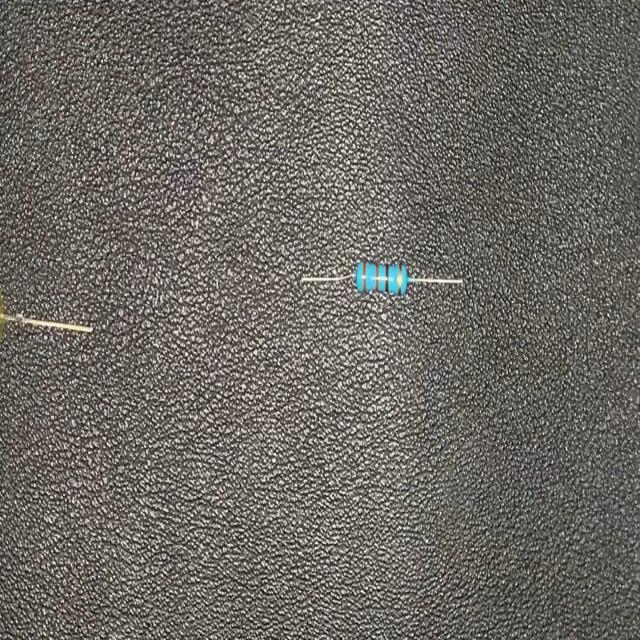resistor: (298, 252, 465, 307)
